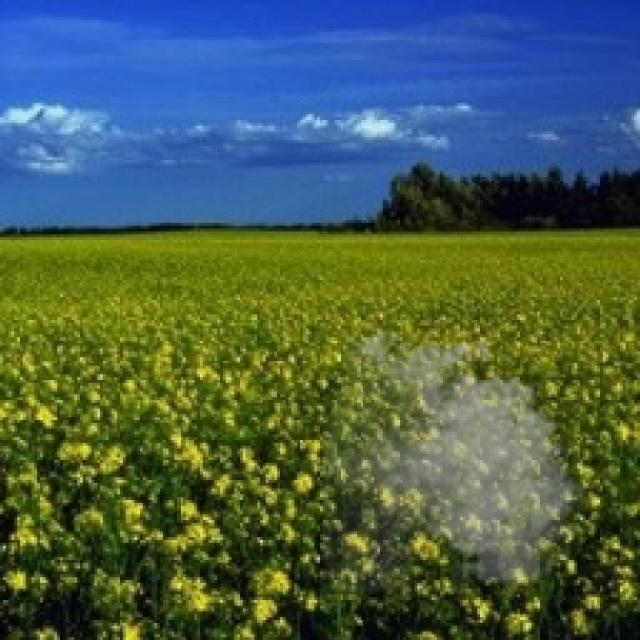smoke: (323, 323, 594, 594)
